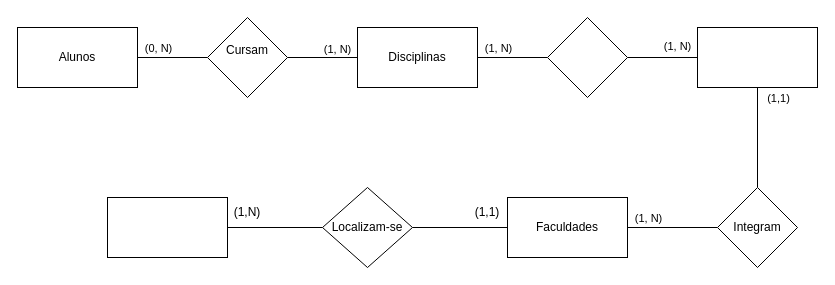
Some shapes in this 835 by 285 pixel diagram are drawn without their labels. The shapes that lost their labels are listed below. From the top down, each one's centre as x and y in pixels, then its label:
At [587,57]: "Pertencem".
At [757,57]: "Departamentos".
At [167,227]: "Cidades".
